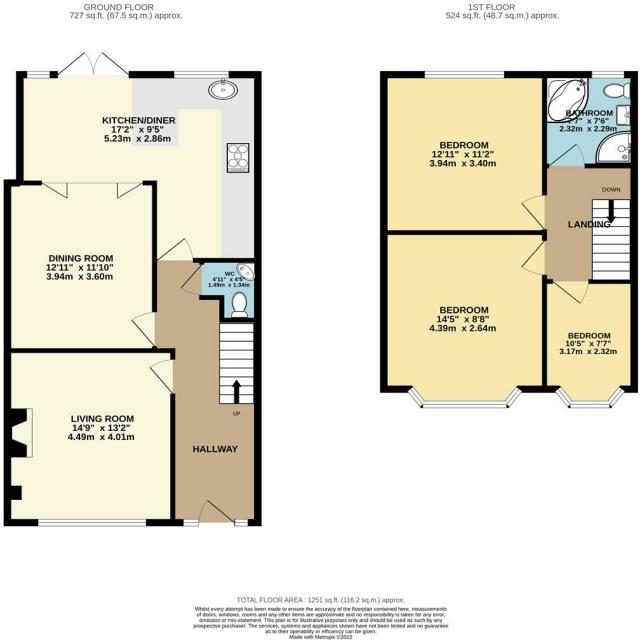DOOR: (197, 498, 236, 526), (129, 310, 158, 347), (551, 279, 590, 306), (519, 239, 547, 276), (519, 194, 547, 231), (148, 358, 176, 395), (548, 142, 586, 169), (156, 237, 194, 263), (179, 262, 205, 296)
DOUBLE DOOR: (55, 49, 131, 79)
ROOM: (15, 51, 262, 263), (3, 348, 176, 527), (380, 230, 548, 409), (380, 70, 547, 235), (3, 179, 158, 353), (541, 279, 639, 409)
WINDOW: (406, 385, 523, 409), (554, 385, 626, 409), (37, 518, 147, 527), (423, 70, 505, 79), (173, 70, 230, 79), (590, 70, 625, 79), (26, 70, 51, 79)
